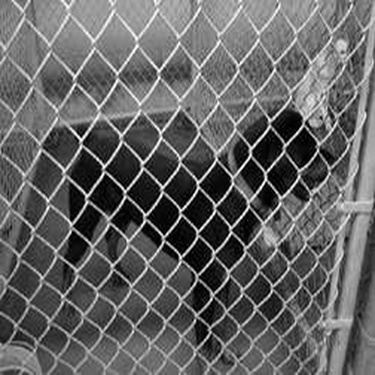dog: (55, 102, 340, 371), (277, 23, 354, 150)
